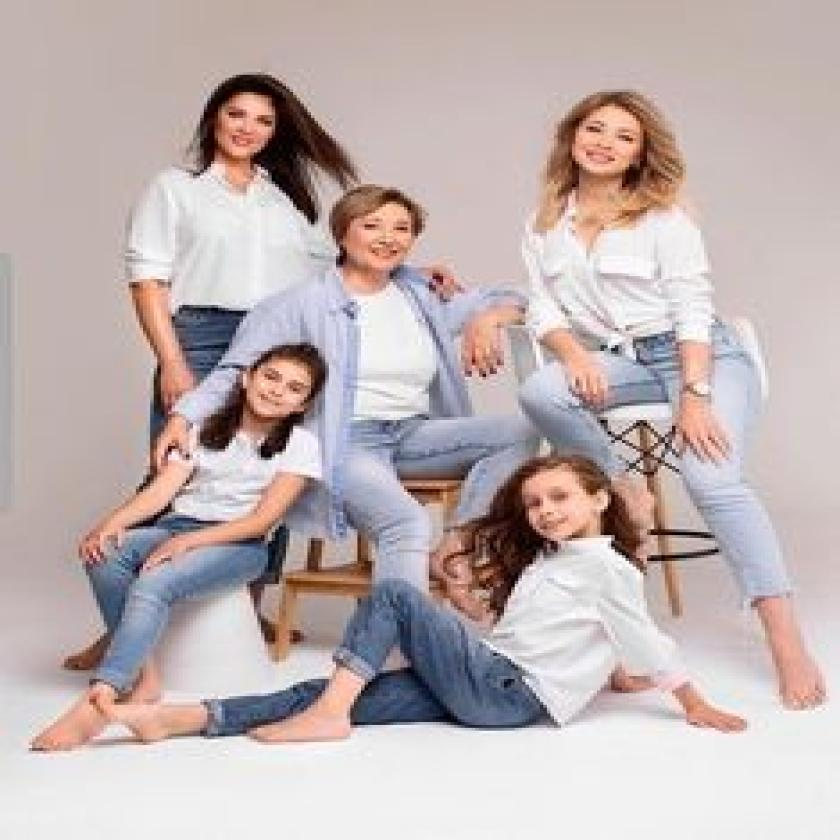Sin_casco: (325, 173, 432, 291), (207, 75, 289, 178), (516, 458, 610, 546), (240, 338, 332, 427), (570, 90, 651, 189)
